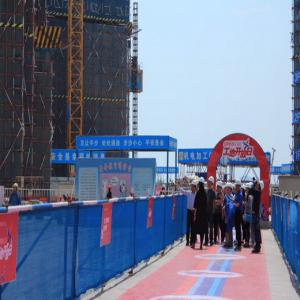red: (108, 186, 113, 194)
white: (256, 180, 265, 193), (235, 179, 243, 192), (208, 176, 216, 188), (191, 182, 198, 194), (199, 177, 206, 189), (217, 181, 224, 193), (227, 183, 234, 194), (246, 184, 252, 193), (242, 185, 247, 194), (162, 185, 167, 191)
yellow: (13, 182, 19, 193)
